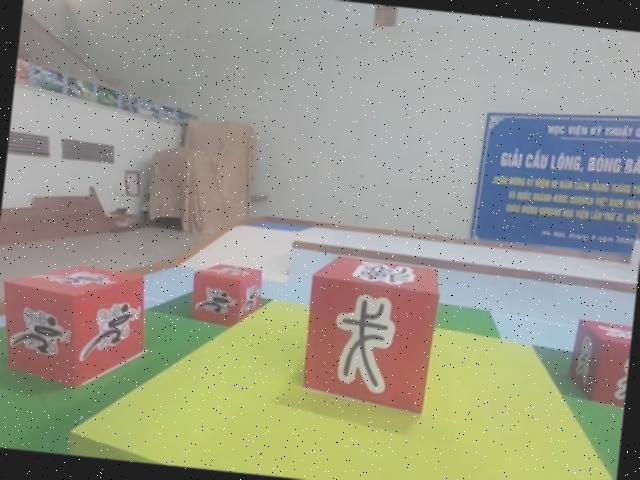R1: (0, 255, 152, 402), (189, 256, 268, 327)
R2 Fake: (297, 250, 441, 417)
R2 Real: (567, 317, 633, 410)
